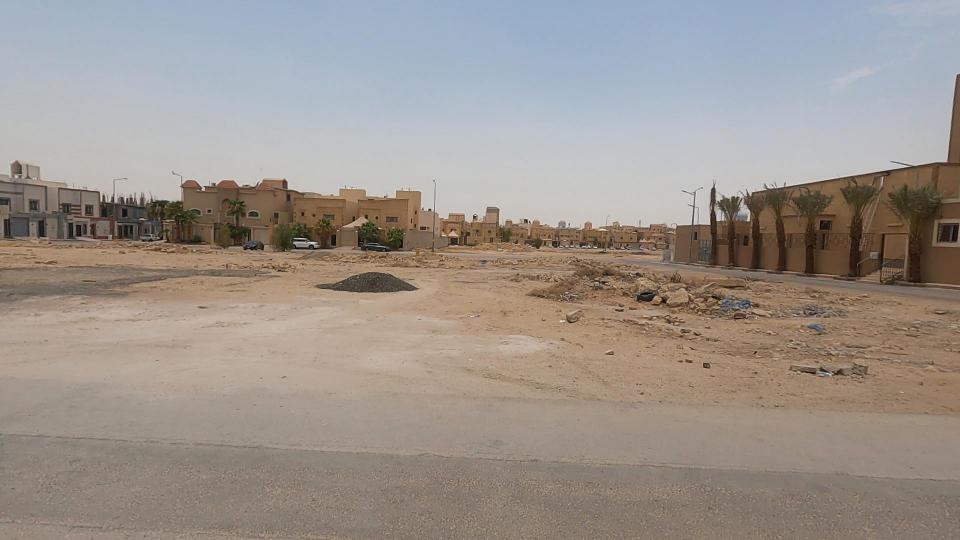GARBAGE: (740, 292, 866, 364), (668, 264, 790, 338), (597, 259, 704, 338), (766, 343, 870, 404)
